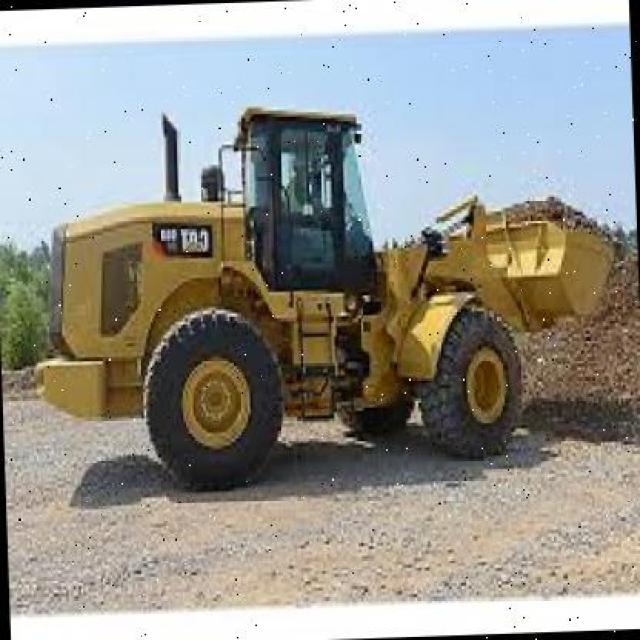buldozerpayloadergrader: (27, 87, 624, 510)
